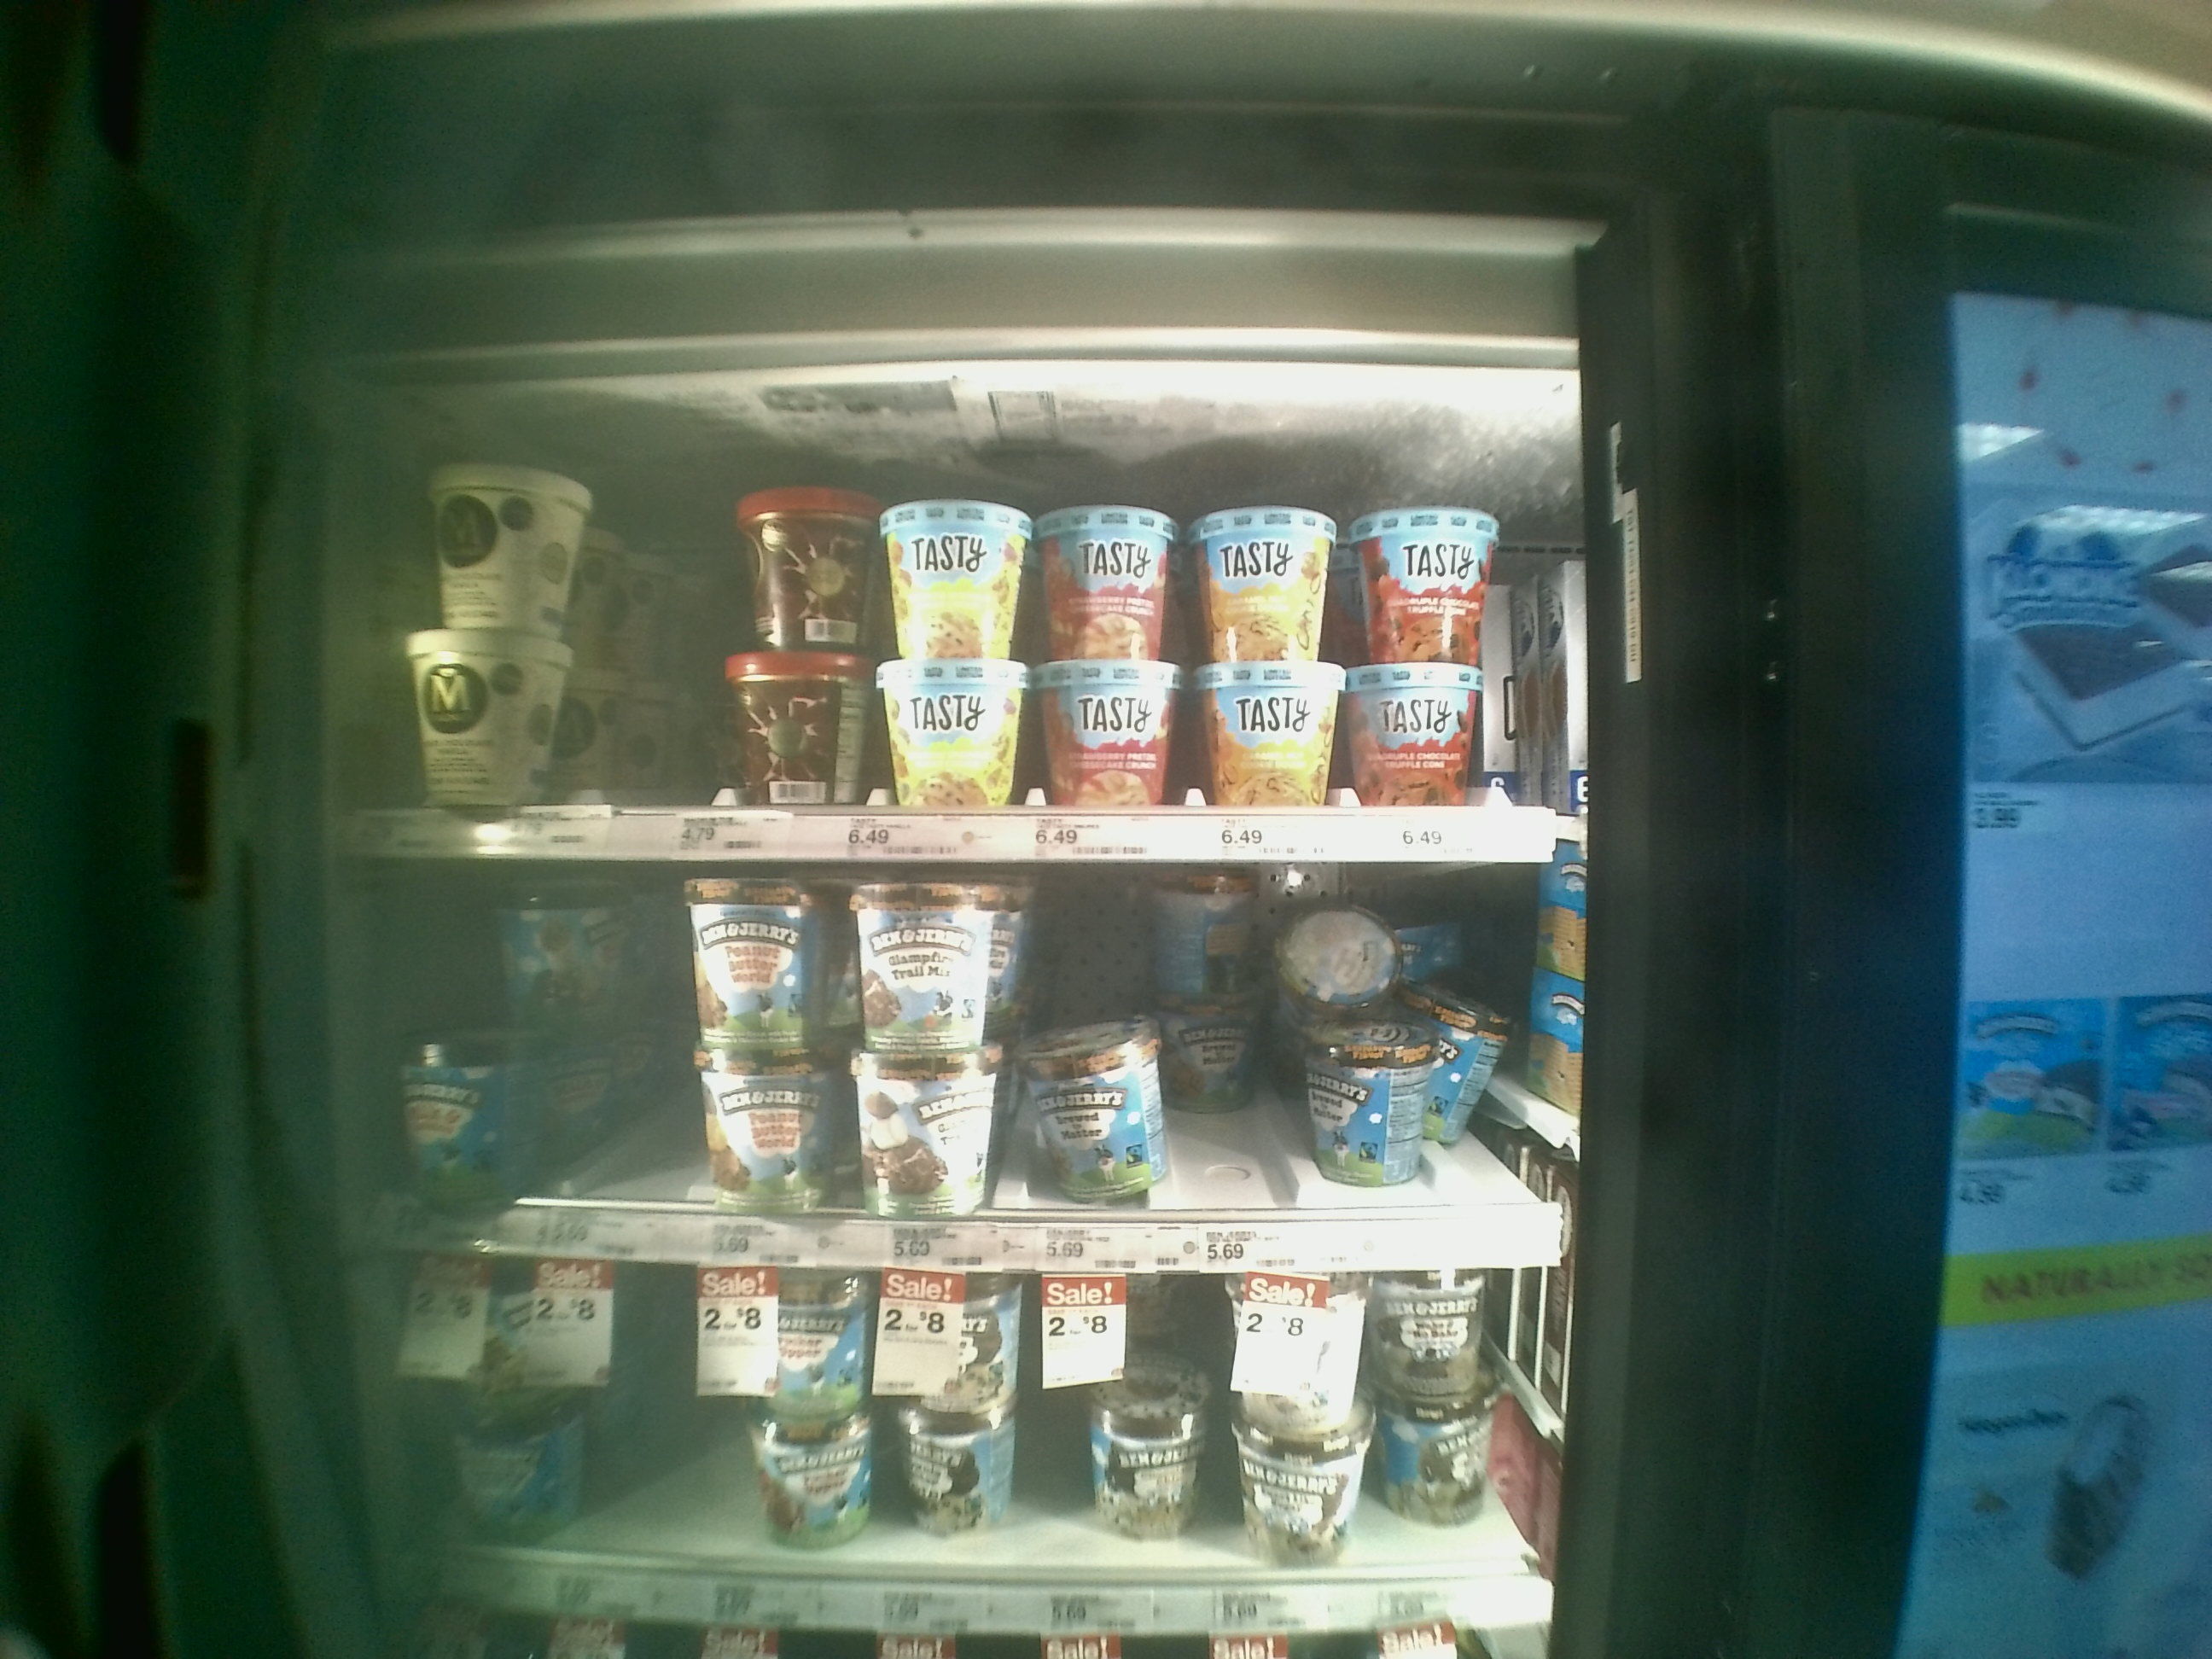shelf: (369, 376, 1564, 859), (364, 857, 1587, 1270), (366, 1274, 1564, 1647)
